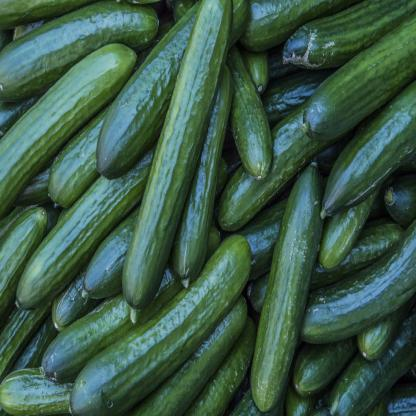--: (115, 0, 235, 315), (62, 226, 252, 416), (244, 157, 330, 403)
